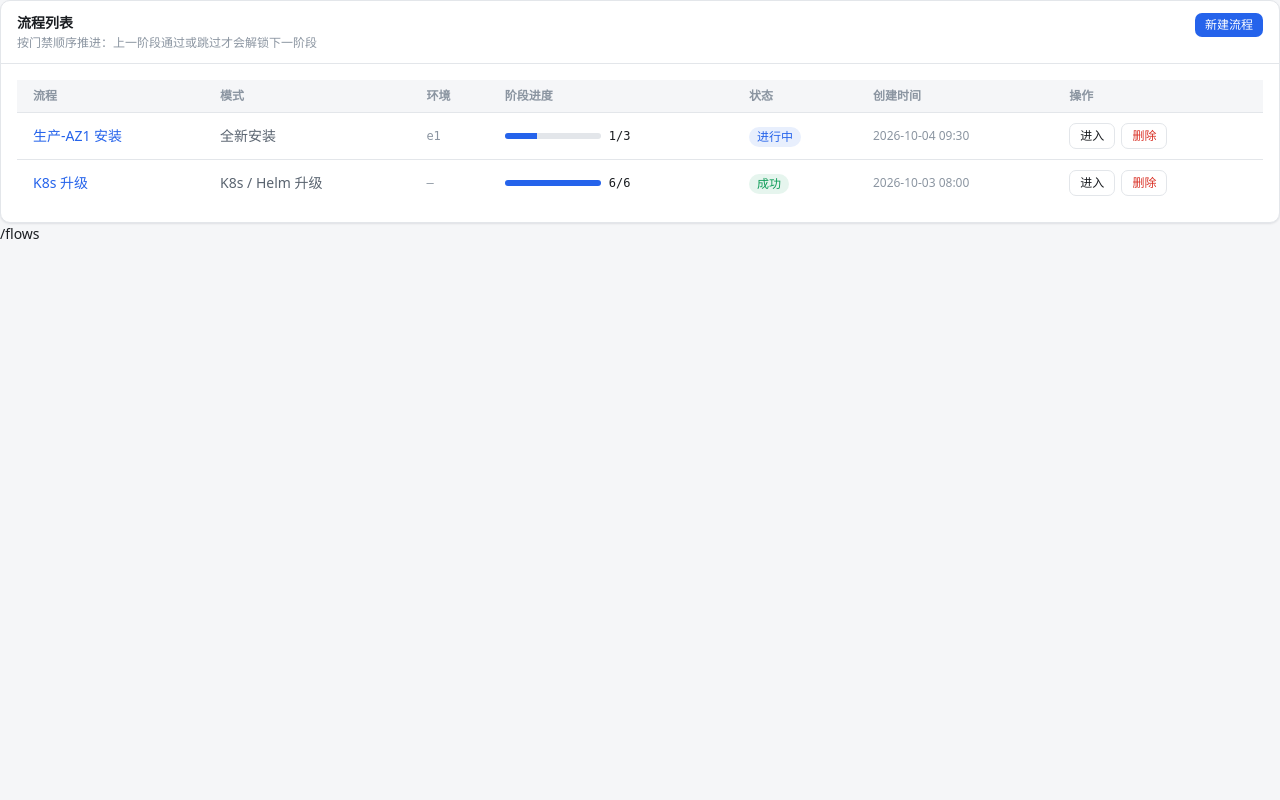
Test: Flows 新建入口 › 点「新建流程」在 URL 上打 ?new=1 并打开对话框
The image size is (1280, 800).
Expected: the link "生产-AZ1 安装" is shown, [33,126,122,145]
Click the button "新建流程".
click(1229, 25)  # box [1195,13,1263,37]
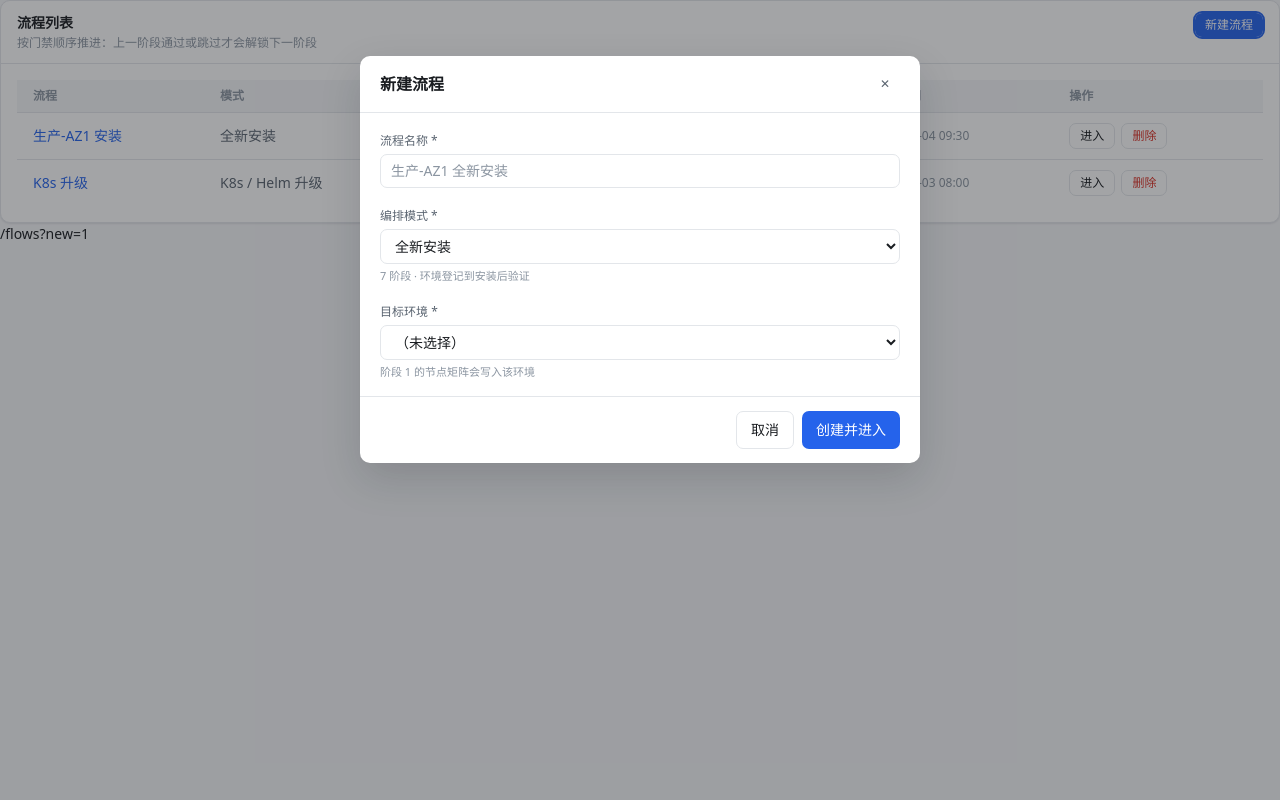
Expected: the dialog is shown
Expected: the text with test id "location" reads "/flows?new=1", [0,224,89,243]
